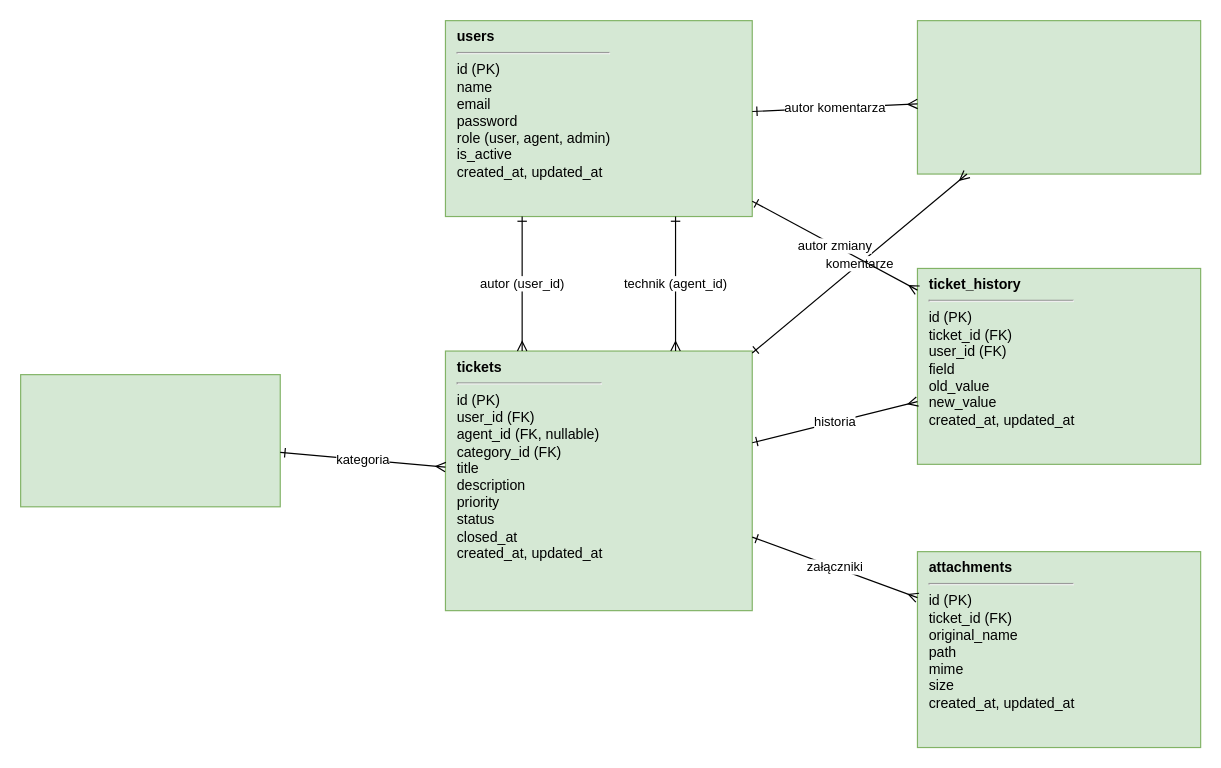
This 1221x768 diagram has some shape labels left out. Each missing label, with the box of its shape:
categories id (PK) name description created_at, updated_at: (19, 373, 280, 507)
ticket_comments id (PK) ticket_id (FK) user_id (FK) body created_at, updated_at: (916, 19, 1201, 174)
